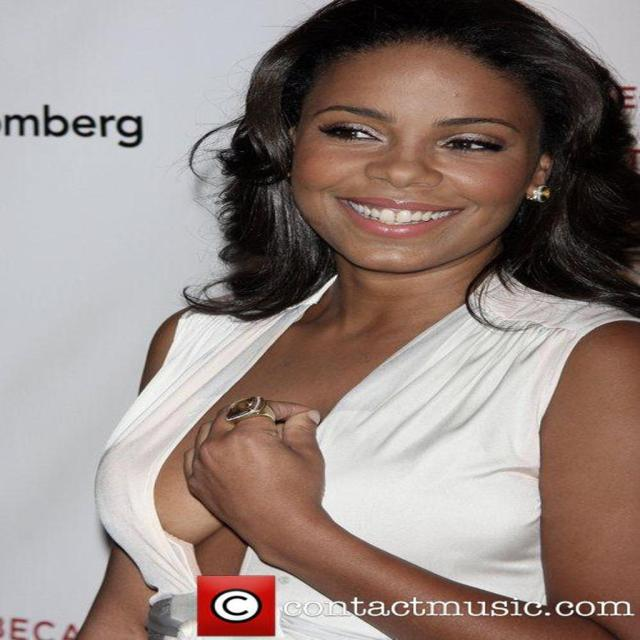Face: (279, 53, 551, 285)
